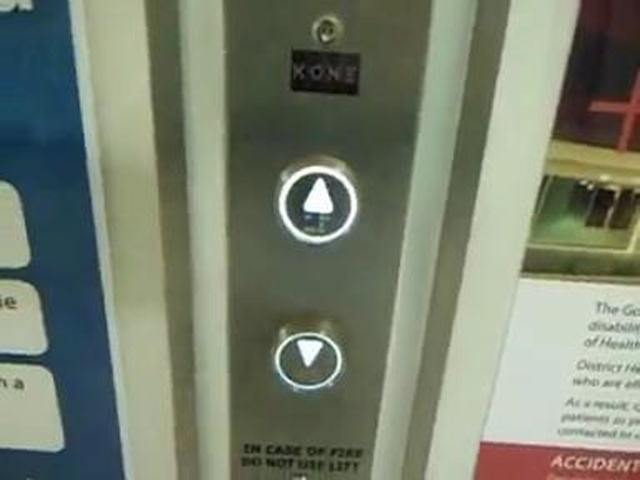down: (270, 313, 346, 394)
up: (273, 153, 359, 246)
